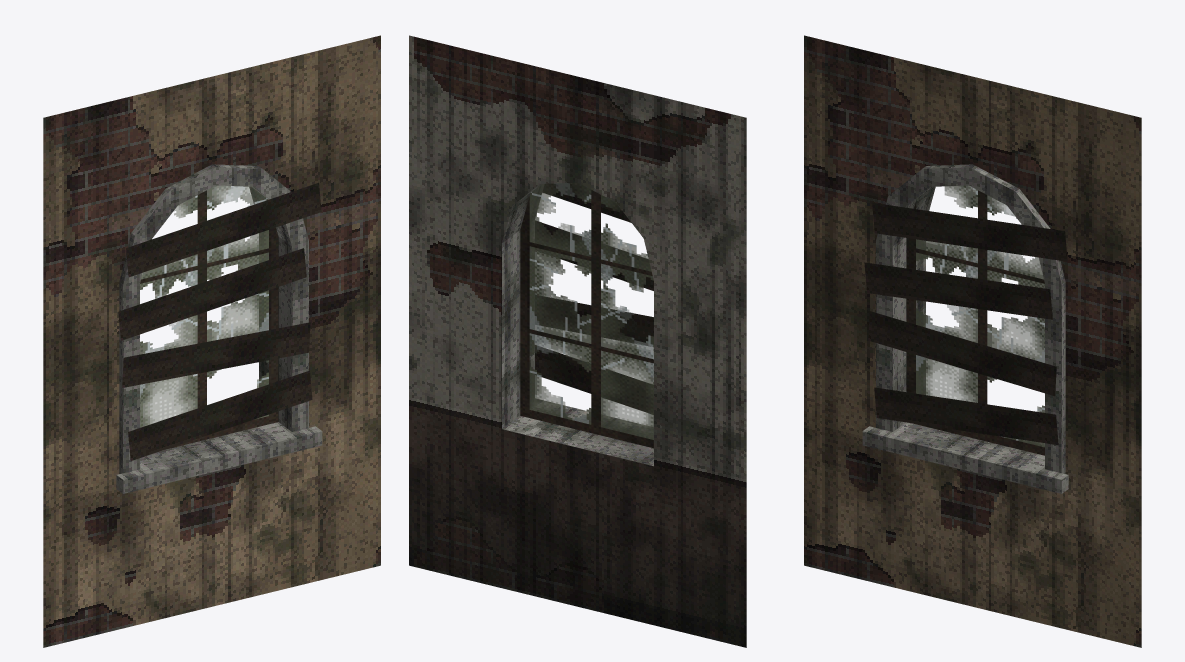
File: ext_window_arch_boarded.gltf
3 views of the same model, side by side, from view 1: azimuth 30°, elevation 25°; view 2: azimuth 150°, elevation 25°; view 3: azimuth 330°, elevation 25° (orthographic).
Visible parts, largest first — view 1: ext_window_arch_boarded, ext_window_arch_boarded_loose; view 2: ext_window_arch_boarded, ext_window_arch_boarded_loose; view 3: ext_window_arch_boarded, ext_window_arch_boarded_loose.
Boxes of the visible parts, x1,y1,x2,y2 form: ext_window_arch_boarded: (43,35,380,647); ext_window_arch_boarded_loose: (140,185,278,448); ext_window_arch_boarded: (409,35,746,647); ext_window_arch_boarded_loose: (520,182,653,448); ext_window_arch_boarded: (804,35,1141,647); ext_window_arch_boarded_loose: (906,185,1044,455).
Size of what is drawn, in the model's own units: 2 by 3 by 0.41.
Materials: 5 (5 with a texture image).
